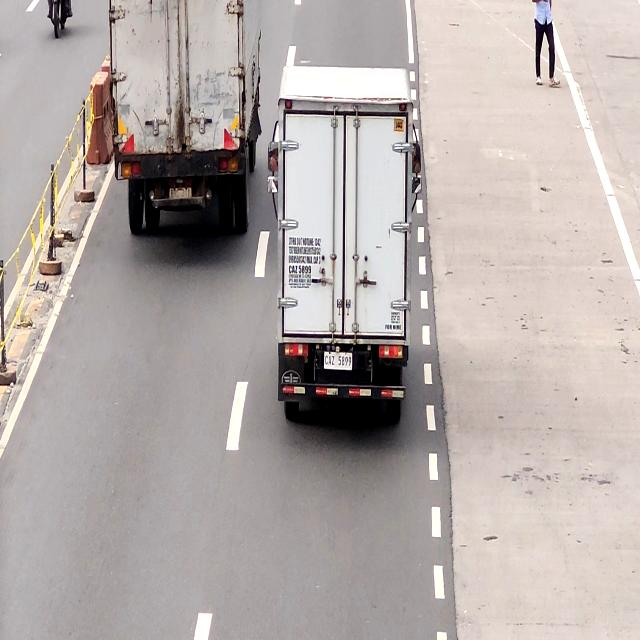License-Plate: (322, 351, 354, 370), (166, 184, 194, 202)
Truck: (279, 62, 410, 426), (107, 0, 260, 241)
